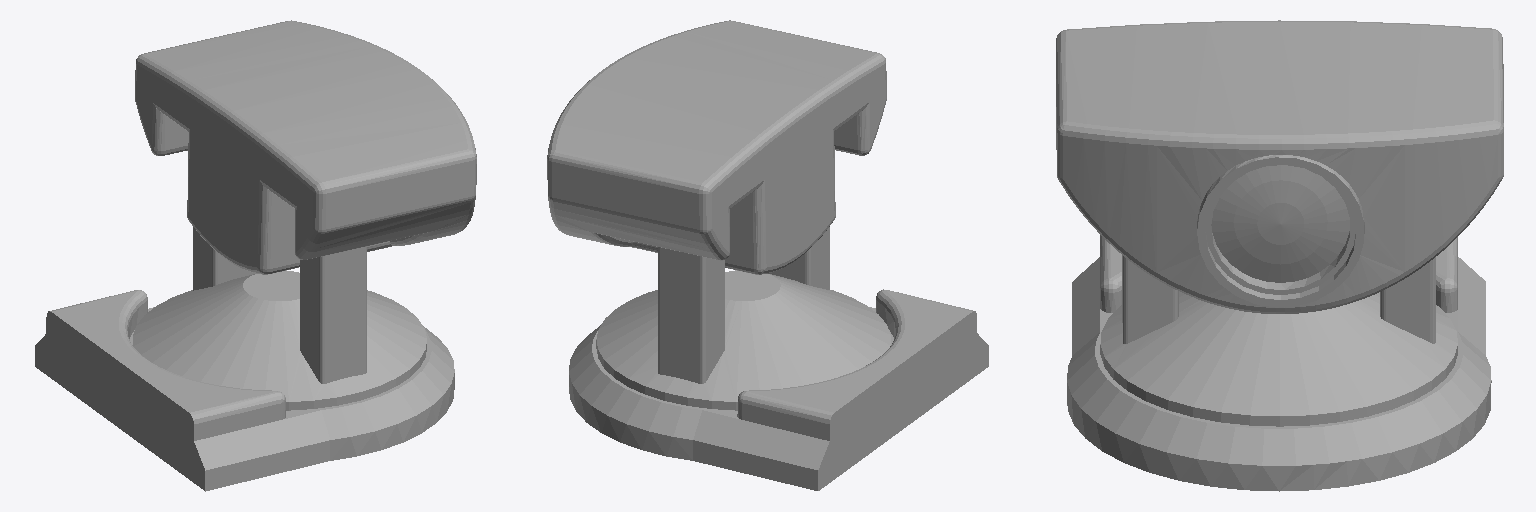
The robot description file, URDF, robot "camera":
<robot
  name="camera">
  <link
    name="pan_link">
    <inertial>
      <origin
        xyz="-0.0091403 0.0071471 -1.7809E-11"
        rpy="0 0 0" />
      <mass
        value="0.10794" />
      <inertia
        ixx="7.1426E-05"
        ixy="3.3189E-06"
        ixz="-1.103E-14"
        iyy="0.00014748"
        iyz="2.568E-14"
        izz="8.0717E-05" />
    </inertial>
    <visual>
      <origin
        xyz="0 0 0"
        rpy="1.5707963267948966 0 0" />
      <geometry>
        <mesh
          filename="package://fcr2017/meshes/ptz_canon_camera/pan_link.stl" />
      </geometry>
      <material
        name="">
        <color
          rgba="0.69804 0.69804 0.69804 1" />
      </material>
    </visual>
    <collision>
      <origin
        xyz="0 0 0"
        rpy="0 0 0" />
      <geometry>
        <mesh
          filename="package://fcr2017/meshes/ptz_canon_camera/pan_link.stl" />
      </geometry>
    </collision>
  </link>
  <link
    name="tilt_link">
    <inertial>
      <origin
        xyz="2.7279E-12 -1.8919E-12 0.013158"
        rpy="0 0 0" />
      <mass
        value="0.064751" />
      <inertia
        ixx="4.2261E-05"
        ixy="-2.4784E-11"
        ixz="1.3773E-13"
        iyy="2.7467E-05"
        iyz="-2.3112E-13"
        izz="4.3761E-05" />
    </inertial>
    <visual>
      <origin
        xyz="0 0 0"
        rpy="0 0 0" />
      <geometry>
        <mesh
          filename="package://fcr2017/meshes/ptz_canon_camera/tilt_link.stl" />
      </geometry>
      <material
        name="">
        <color
          rgba="0.69804 0.69804 0.69804 1" />
      </material>
    </visual>
    <collision>
      <origin
        xyz="0 0 0"
        rpy="0 0 0" />
      <geometry>
        <mesh
          filename="package://fcr2017/meshes/ptz_canon_camera/tilt_link.stl" />
      </geometry>
    </collision>
  </link>
  <!-- Joint limits: lower -100 degrees, upper 100 degrees, Pan velocity: 90 degrees/sec -->
  <joint
    name="pan_joint"
    type="revolute">
    <origin
      xyz="0 0 0.0127"
      rpy="-4.5919E-16 -1.7382E-16 -3.136" />
    <parent
      link="pan_link" />
    <child
      link="tilt_link" />
    <axis
      xyz="0 0 1" />
    <limit
      lower="-1.5707963267948966"
      upper="1.5707963267948966"
      effort="1"
      velocity="1.5707963267948966" />
  </joint>
  <link
    name="zoom_link">
    <inertial>
      <origin
        xyz="0.00012702 0.0073708 0.013574"
        rpy="0 0 0" />
      <mass
        value="0.17847" />
      <inertia
        ixx="8.0556E-05"
        ixy="-6.7333E-11"
        ixz="1.2638E-10"
        iyy="0.00016402"
        iyz="2.758E-06"
        izz="0.00013484" />
    </inertial>
    <visual>
      <origin
        xyz="0 0 0"
        rpy="0 0 0" />
      <geometry>
        <mesh
          filename="package://fcr2017/meshes/ptz_canon_camera/zoom_link.stl" />
      </geometry>
      <material
        name="">
        <color
          rgba="0.69804 0.69804 0.69804 1" />
      </material>
    </visual>
    <collision>
      <origin
        xyz="0 0 0"
        rpy="0 0 0" />
      <geometry>
        <mesh
          filename="package://fcr2017/meshes/ptz_canon_camera/zoom_link.stl" />
      </geometry>
    </collision>
  </link>
  <!-- Joint limits: lower -30 degrees, upper 90 degrees, Tilt velocity: 70 degrees/sec -->
  <joint
    name="tilt_joint"
    type="revolute">
    <origin
      xyz="0 0 0.05"
      rpy="1.5906 -3.4207E-17 -1.5708" />
    <parent
      link="tilt_link" />
    <child
      link="zoom_link" />
    <axis
      xyz="-1 0 0" />
    <limit
      lower="-0.5235987755982988" 
      upper="1.5707963267948966"
      effort="1"
      velocity="1.2217304763960306" />
  </joint>
</robot>

--- Render facts (derived) ---
Views: 3 orthographic renders of the robot side by side, from view 1: azimuth 30°, elevation 25°; view 2: azimuth 150°, elevation 25°; view 3: azimuth 270°, elevation 25°.
Model camera with 3 links and 2 joints (2 revolute), rooted at pan_link, posed every joint at zero.
Visible links, largest first — view 1: zoom_link, pan_link, tilt_link; view 2: zoom_link, pan_link, tilt_link; view 3: zoom_link, tilt_link, pan_link.
Link boxes in pixels (bbox=[...]): zoom_link: bbox=[135, 20, 476, 274]; pan_link: bbox=[35, 290, 454, 491]; tilt_link: bbox=[133, 227, 426, 410]; zoom_link: bbox=[547, 20, 886, 274]; pan_link: bbox=[569, 289, 988, 490]; tilt_link: bbox=[596, 227, 890, 410]; zoom_link: bbox=[1056, 20, 1503, 313]; tilt_link: bbox=[1100, 255, 1457, 426]; pan_link: bbox=[1067, 235, 1491, 491].
Bounding box of the posed robot: 0.0991 × 0.1019 × 0.0883 m (x, y, z).
3 mesh visuals loaded from 3 distinct referenced files (3 binary STL).